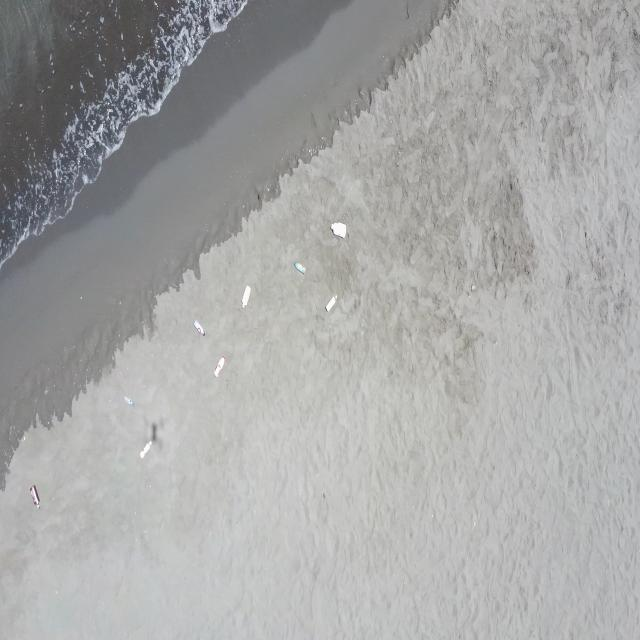Garbage: (30, 484, 39, 507), (139, 440, 151, 457), (213, 355, 223, 375), (331, 221, 344, 236), (241, 284, 249, 307), (324, 295, 335, 311), (193, 320, 203, 335), (293, 261, 304, 273), (123, 395, 133, 404), (151, 423, 156, 440), (472, 283, 475, 291)
